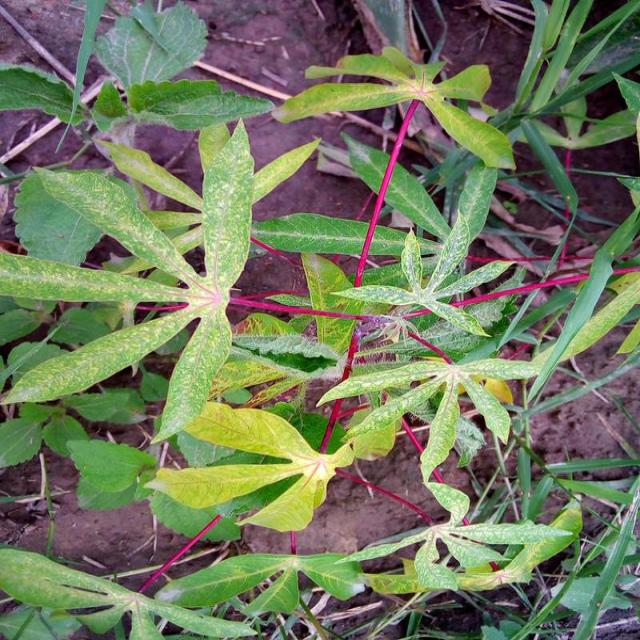cassava leaf: (143, 399, 355, 533)
